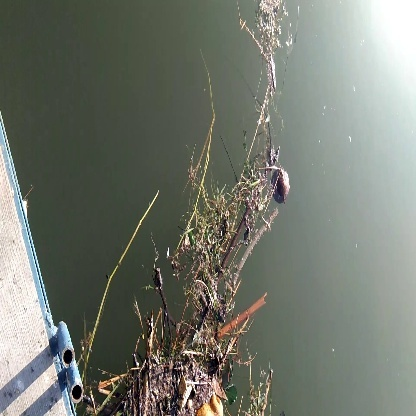branch: (229, 200, 282, 279)
